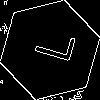L: (25, 25, 76, 64)
